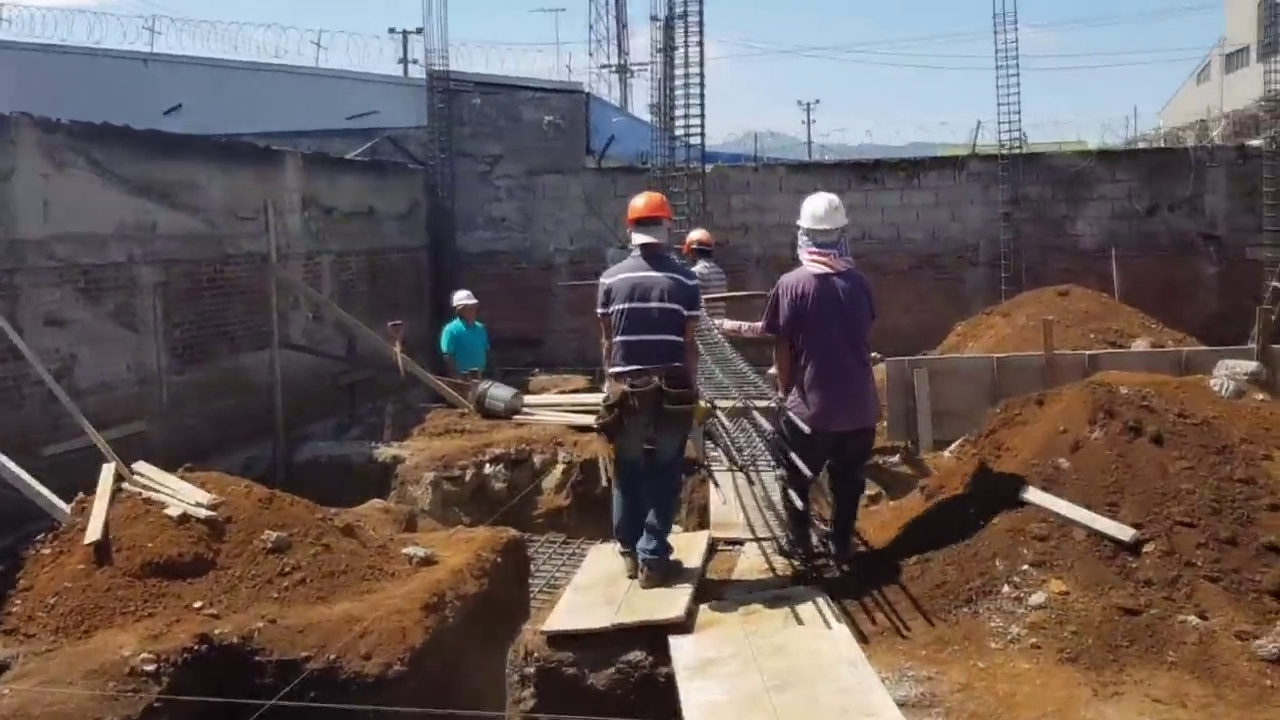helmet: (797, 192, 856, 234), (624, 193, 672, 230), (683, 230, 717, 257), (452, 291, 477, 307)
helmet-on: (801, 192, 856, 269), (624, 192, 671, 260), (683, 230, 716, 266), (452, 290, 476, 320)
person: (594, 190, 713, 593), (770, 179, 886, 588), (433, 289, 491, 375), (681, 231, 727, 311)
